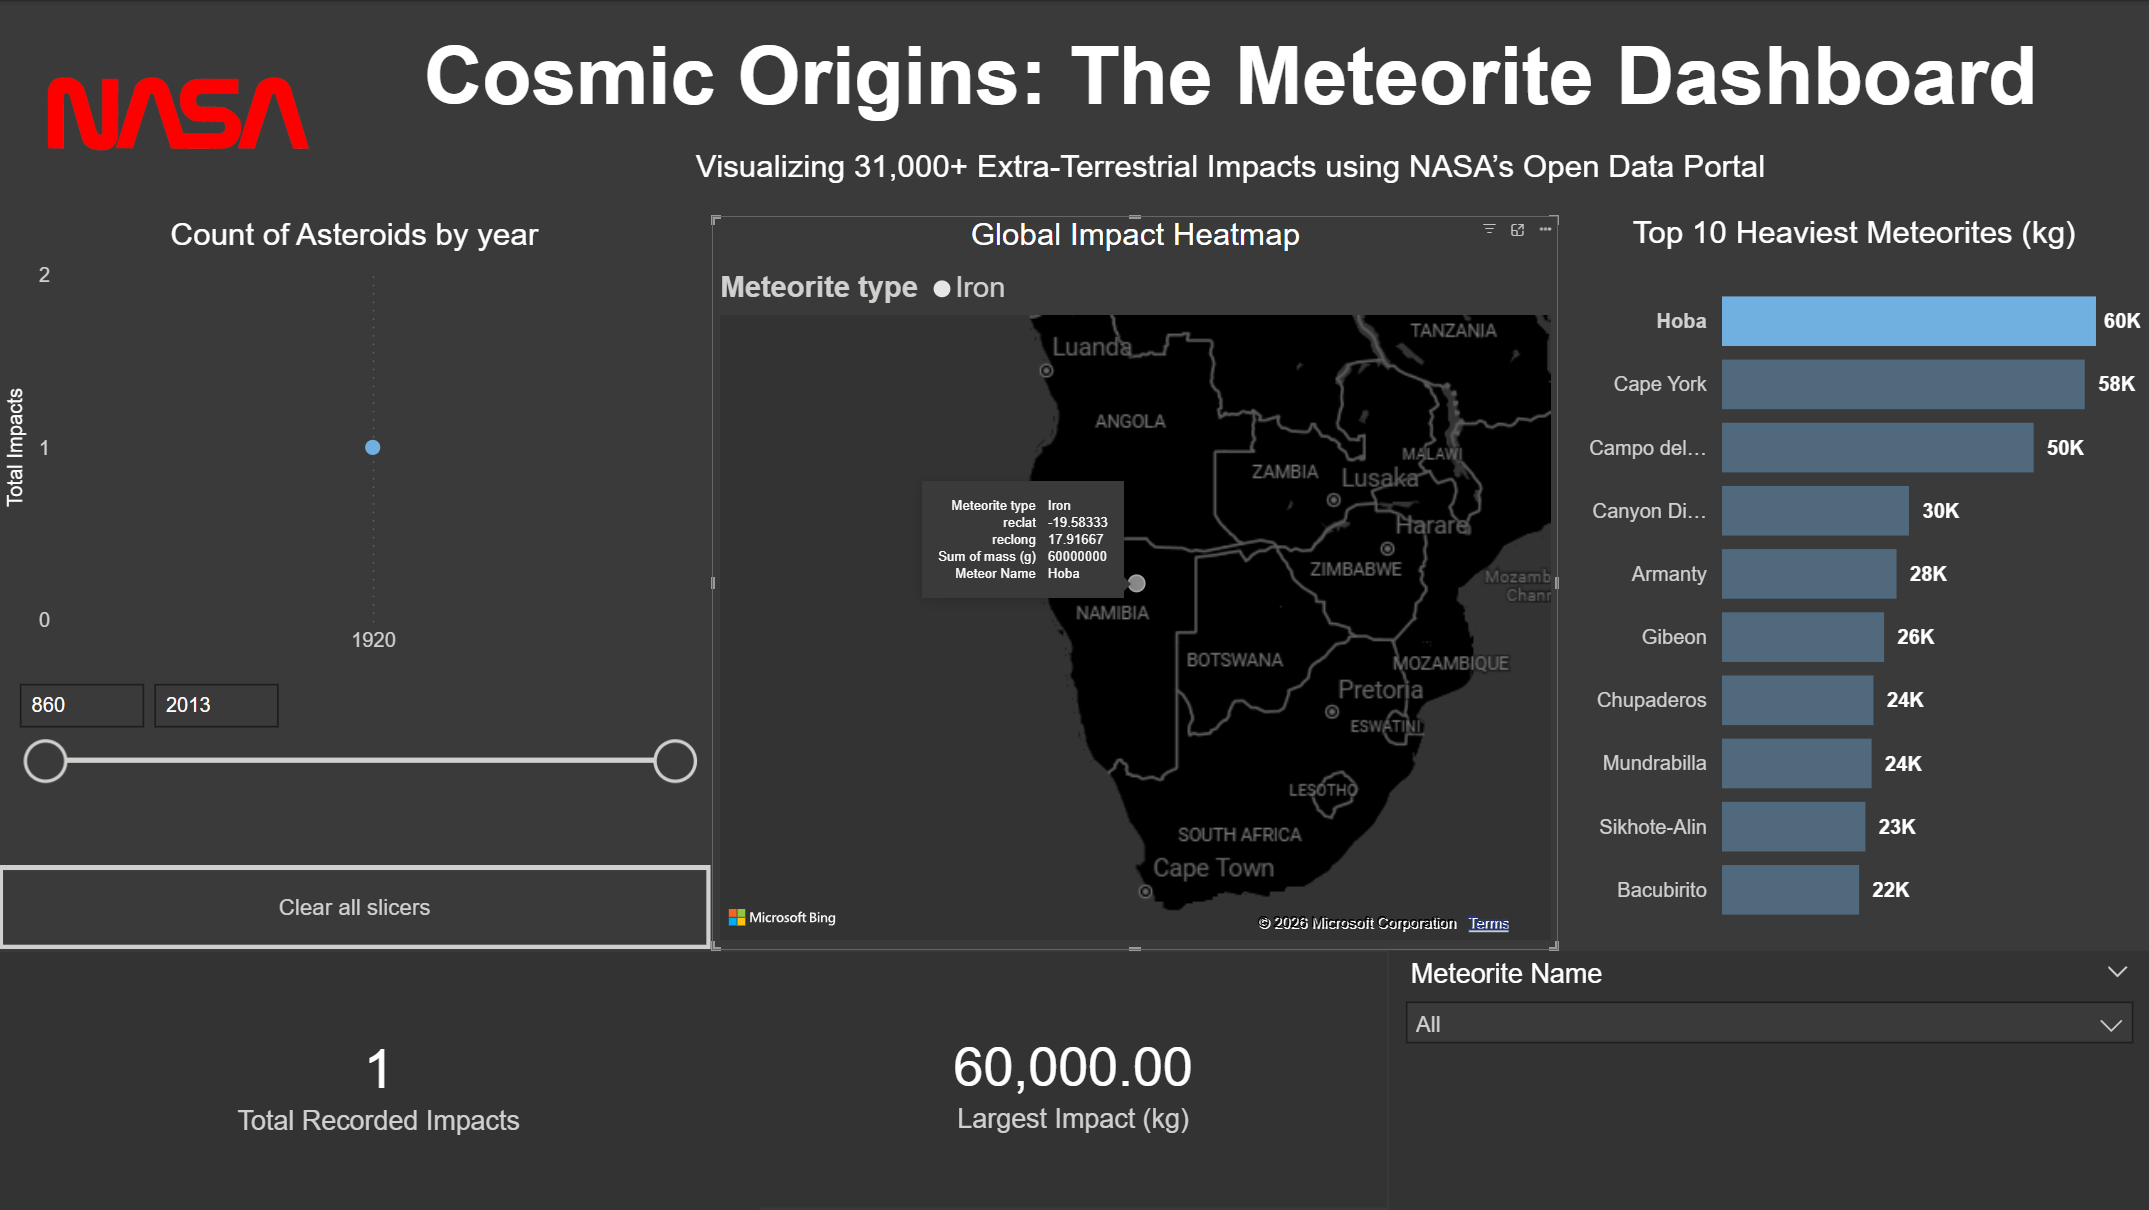

The dashboard page shown, as its layout file describes it:
{"tool":"powerbi","page":{"name":"Page 1","canvas":[1280,720],"ordinal":0},"visuals":[{"type":"map","title":"Global Impact Heatmap","fields":{"Y":["Meteorite_Landings.reclat"],"X":["Meteorite_Landings.reclong"],"Size":["Sum(Meteorite_Landings.mass (g))"],"Series":["Meteorite_Landings.Meteorite type"]},"box":[424.6,128,503.9,436.8],"z":0},{"type":"card","fields":{"Values":["Count(Meteorite_Landings.name)"]},"box":[0,565.8,453.1,154.4],"z":1000},{"type":"areaChart","title":"Count of Asteroids by year","fields":{"Category":["Meteorite_Landings.year"],"Y":["CountNonNull(Meteorite_Landings.name)"]},"box":[0,127.9,424.3,268.4],"z":2000},{"type":"slicer","title":"Year Slicer","fields":{"Values":["Meteorite_Landings.year"]},"box":[0,396.3,424.3,118.4],"z":3000},{"type":"actionButton","box":[0,514,424.5,50.4],"z":4000},{"type":"card","fields":{"Values":["Meteorite_Landings.Largest Impact (kg)"]},"box":[453.1,565.8,373.8,152.4],"z":5000},{"type":"textbox","box":[186.9,12.5,1093.1,115],"z":6000},{"type":"slicer","fields":{"Values":["Meteorite_Landings.name"]},"box":[827.5,565,452.5,154.4],"z":7000},{"type":"image","box":[28.6,7.7,158.3,119],"z":8000},{"type":"clusteredBarChart","title":"Top 10 Heaviest Meteorites (kg)","fields":{"Category":["Meteorite_Landings.name"],"Y":["Meteorite_Landings.Largest Impact (kg)"]},"box":[928.7,126.9,351.3,437.5],"z":9000}]}

Visuals, with their boxes in screenshot pixels (x1, y1, x2, y2), scaled from the page's 1280x720 canvas onto the 2149x1210 screenshot:
"Global Impact Heatmap" map: box(713, 215, 1559, 949)
card - Count(Meteorite_Landings.name): box(0, 951, 761, 1209)
"Count of Asteroids by year" areaChart: box(0, 215, 712, 666)
"Year Slicer" slicer: box(0, 666, 712, 865)
actionButton: box(0, 864, 713, 949)
card - Meteorite_Landings.Largest Impact (kg): box(761, 951, 1388, 1207)
textbox: box(314, 21, 2148, 214)
slicer - Meteorite_Landings.name: box(1389, 950, 2148, 1209)
image: box(48, 13, 314, 213)
"Top 10 Heaviest Meteorites (kg)" clusteredBarChart: box(1559, 213, 2148, 949)
